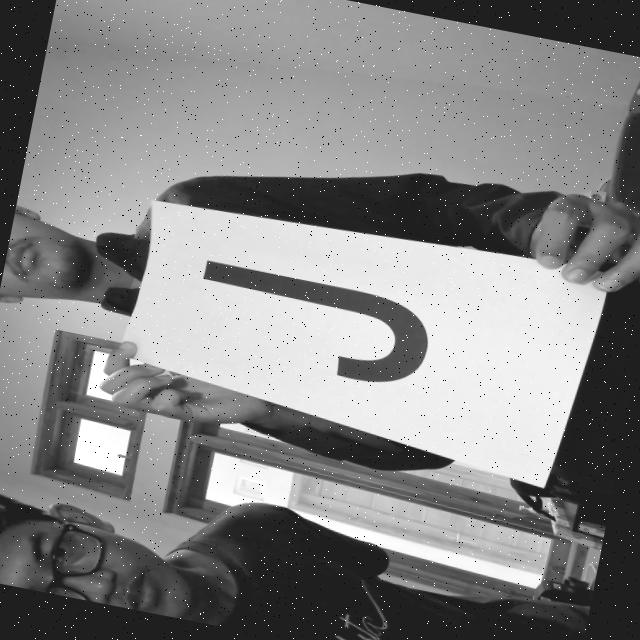j: (180, 238, 472, 404)
